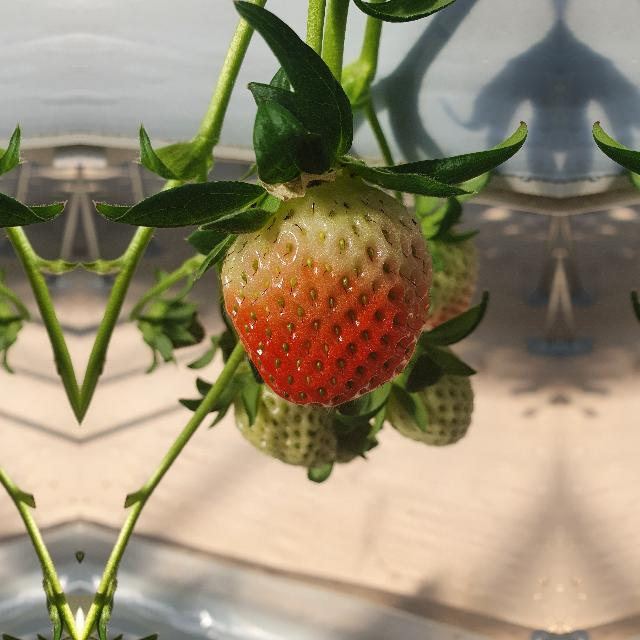Health_75: (221, 179, 433, 407)
